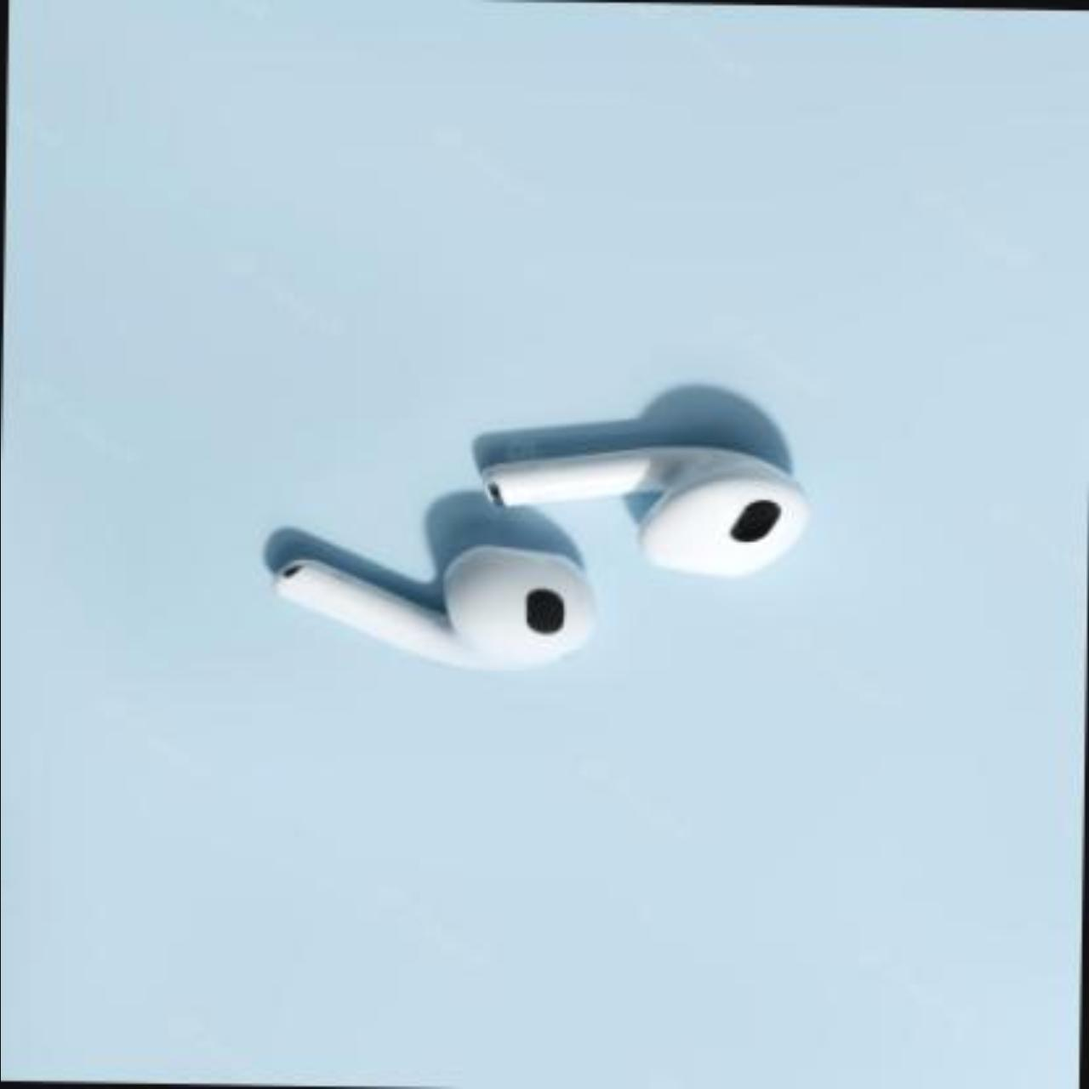Airpods_Units: (470, 434, 833, 578), (251, 535, 594, 681)
